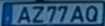7: (46, 5, 57, 23), (57, 5, 68, 22)
A: (68, 5, 84, 23), (16, 5, 31, 23)
Q: (85, 4, 98, 23)
Z: (31, 5, 45, 23)
